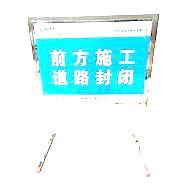sign: (35, 23, 145, 103)
